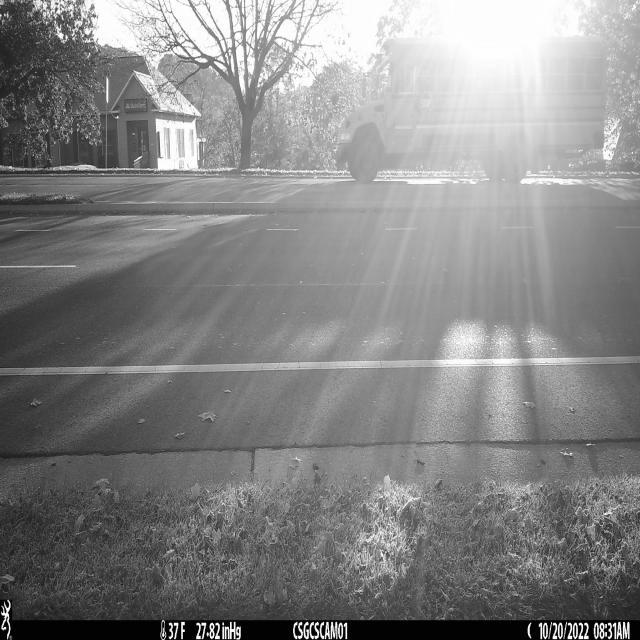Bus: (336, 35, 603, 184)
